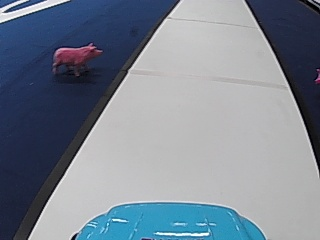pig: (50, 39, 102, 76)
